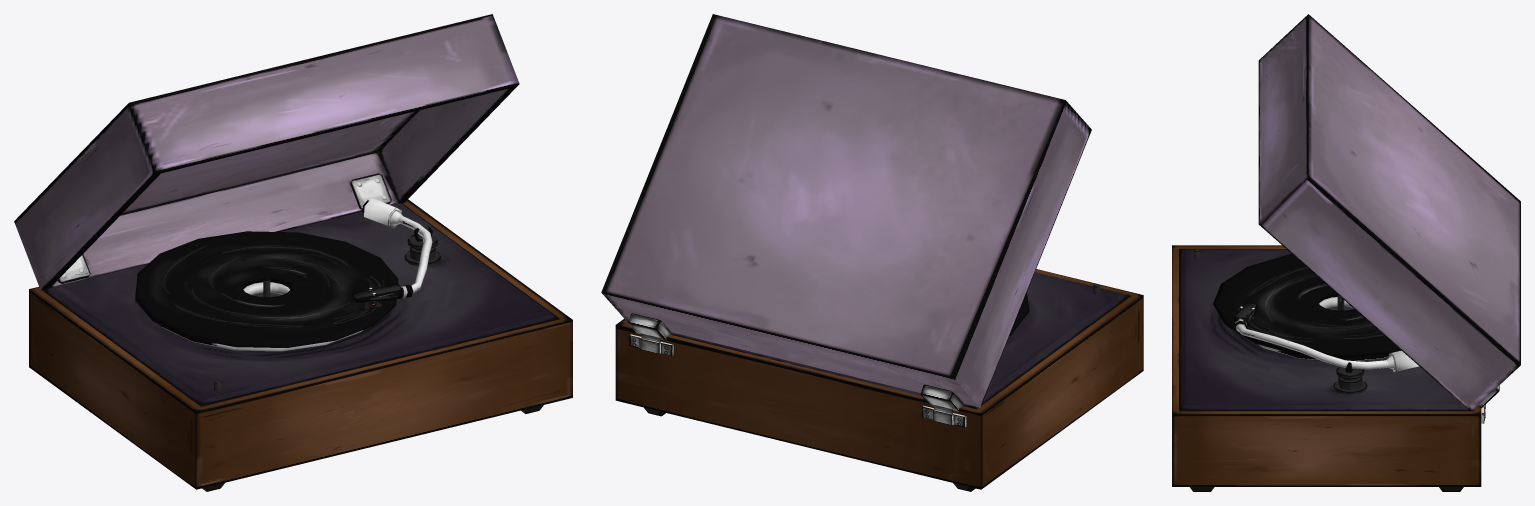
Rendered from GAD4_PropAnimation_EvaRoderick.fbx.
The picture shows the model from 3 angles, left to right: view 1: azimuth 30°, elevation 25°; view 2: azimuth 150°, elevation 25°; view 3: azimuth 270°, elevation 25°; orthographic projection. The views are drawn at different scales.
Visible parts, largest first — view 1: Base.001, Cover.001, Record.002, Needle_Long.001, Record.003, Needle_Circle.001; view 2: Cover.001, Base.001, Nail_Base.001; view 3: Cover.001, Base.001, Record.002, Needle_Long.001, Needle_Circle.001, Record.003.
Boxes of the visible parts, x1=… form: Base.001: x1=29, y1=199, x2=572, y2=491; Cover.001: x1=14, y1=14, x2=519, y2=291; Record.002: x1=135, y1=231, x2=398, y2=347; Needle_Long.001: x1=352, y1=198, x2=432, y2=310; Record.003: x1=160, y1=282, x2=362, y2=351; Needle_Circle.001: x1=404, y1=234, x2=440, y2=266; Cover.001: x1=601, y1=14, x2=1091, y2=411; Base.001: x1=615, y1=269, x2=1143, y2=491; Nail_Base.001: x1=629, y1=333, x2=966, y2=427; Cover.001: x1=1258, y1=14, x2=1520, y2=411; Base.001: x1=1172, y1=245, x2=1481, y2=491; Record.002: x1=1213, y1=253, x2=1401, y2=358; Needle_Long.001: x1=1234, y1=303, x2=1419, y2=371; Needle_Circle.001: x1=1333, y1=366, x2=1367, y2=394; Record.003: x1=1259, y1=297, x2=1389, y2=360.
Size of the model in its own units: 109 by 96.11 by 94.66.
